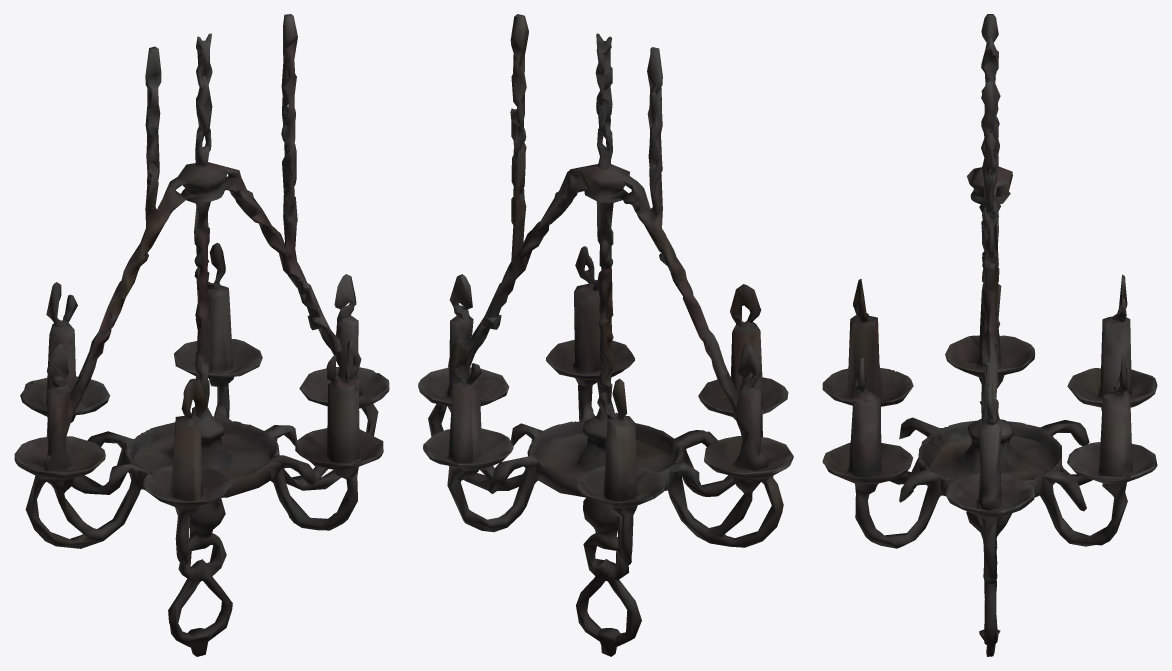
Rendered from simple-iron-chandelier-v001.glb.
The picture shows the model from 3 angles, left to right: view 1: azimuth 30°, elevation 25°; view 2: azimuth 150°, elevation 25°; view 3: azimuth 270°, elevation 25°; orthographic projection.
Visible parts, largest first — view 1: simple-iron-chandelier; view 2: simple-iron-chandelier; view 3: simple-iron-chandelier.
Boxes of the visible parts, x1,y1,x2,y2 form: simple-iron-chandelier: [14, 14, 389, 656]; simple-iron-chandelier: [418, 14, 793, 656]; simple-iron-chandelier: [822, 14, 1157, 656].
Bounding box in the file's own units: 0.601 × 0.9744 × 0.4785.
1 material, 1 textured.
